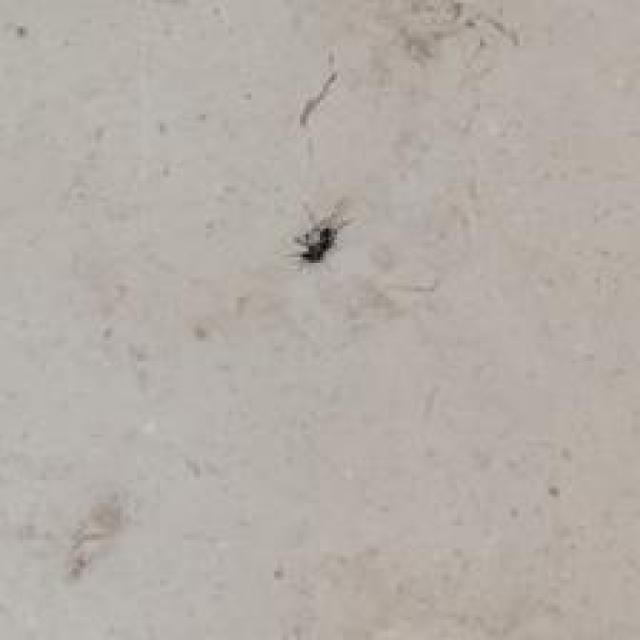Aedes albopictus: (286, 199, 351, 270)
